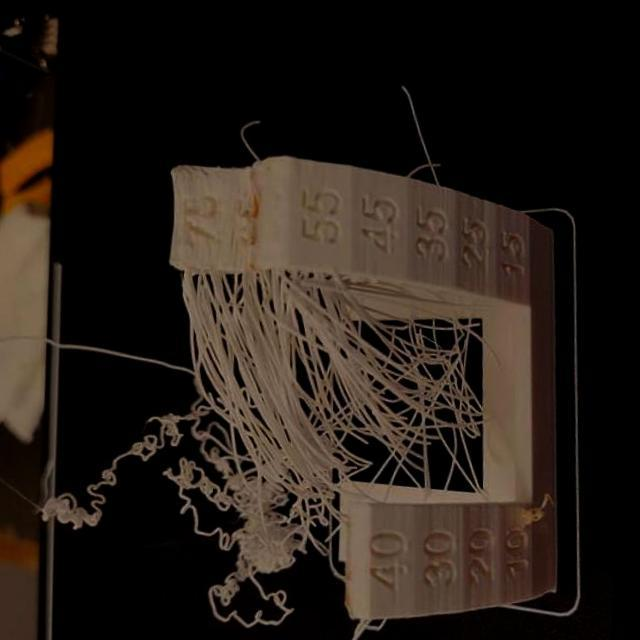spaghetti: (233, 288, 484, 445), (224, 417, 318, 609), (188, 417, 241, 502), (187, 275, 235, 366), (59, 462, 118, 531), (137, 394, 194, 465)
